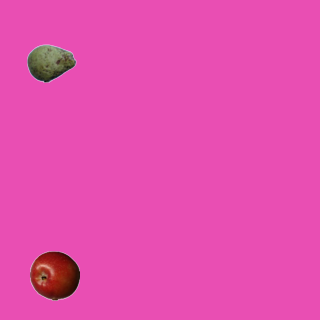Apple Braeburn: (29, 250, 79, 300)
Pear Stone: (26, 38, 76, 88)
